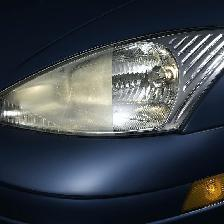broken_part: (104, 61, 208, 121)
